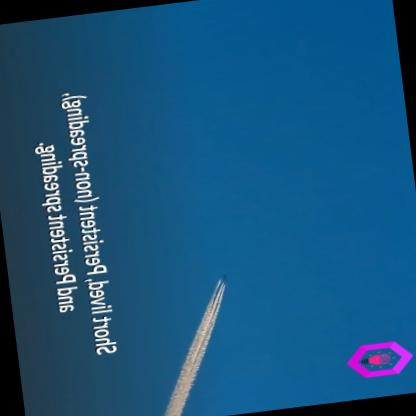plane: (216, 271, 232, 289)
